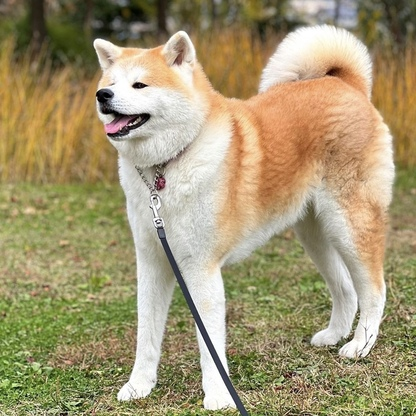akita: (84, 18, 402, 416)
